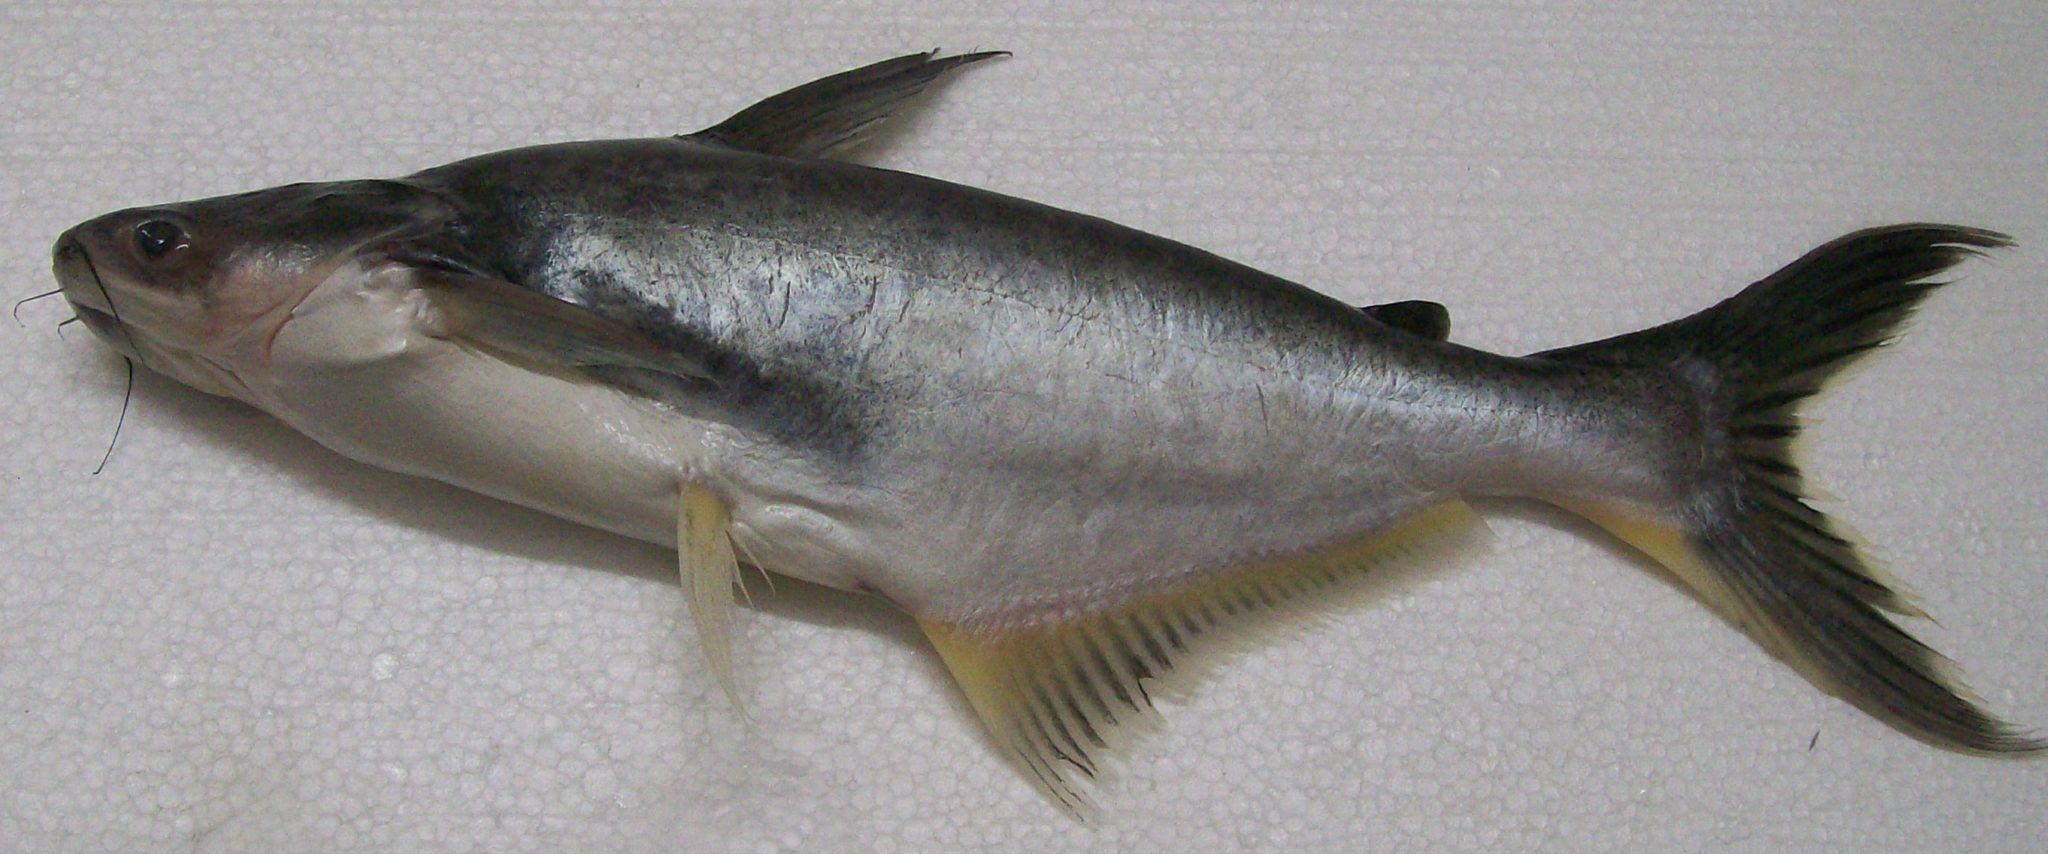Pangasius: (46, 47, 2048, 803)
